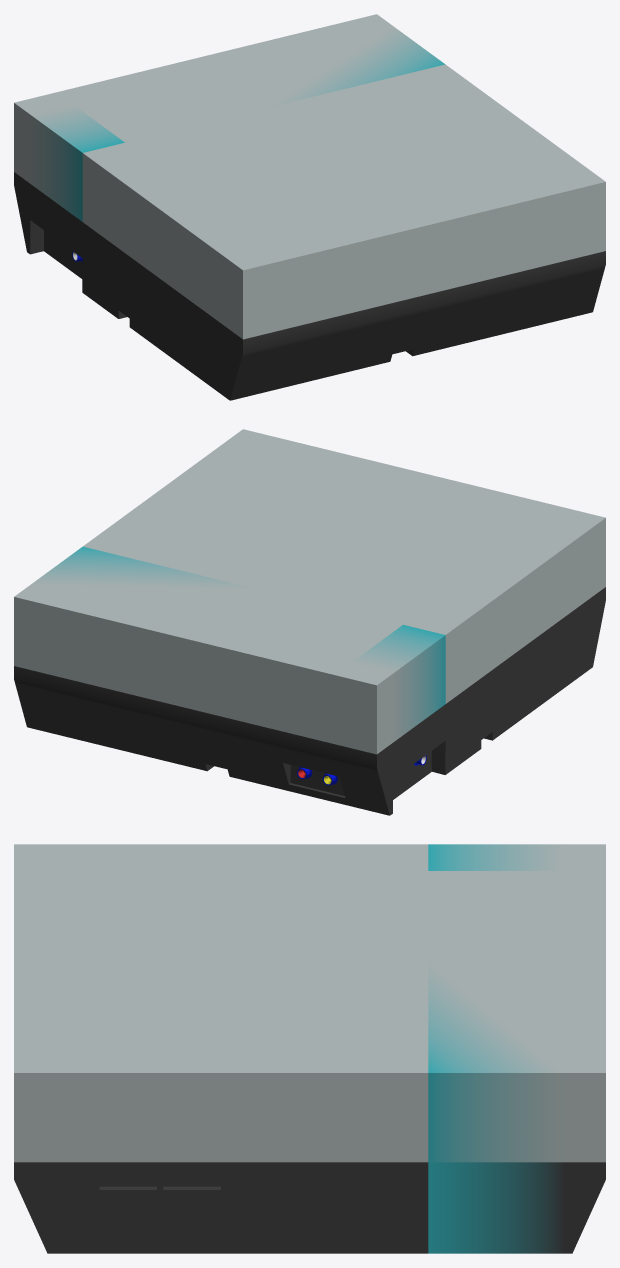
The model's file is NES.fbx.
3 renders of one model, top to bottom at view 1: azimuth 30°, elevation 25°; view 2: azimuth 150°, elevation 25°; view 3: azimuth 270°, elevation 25°, orthographic. The views are drawn at different scales.
Visible parts, largest first — view 1: NES; view 2: NES; view 3: NES.
Part boxes in pixels (box(x1,y1,x2,y2)): NES: box(14, 14, 605, 400); NES: box(14, 429, 605, 815); NES: box(14, 844, 605, 1253).
Size of the model in its own units: 0.3713 by 0.1347 by 0.3997.
